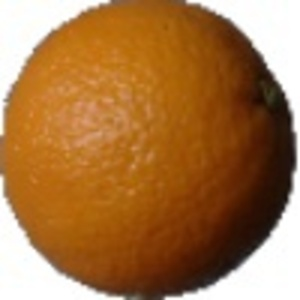laranja: (6, 5, 297, 295)
